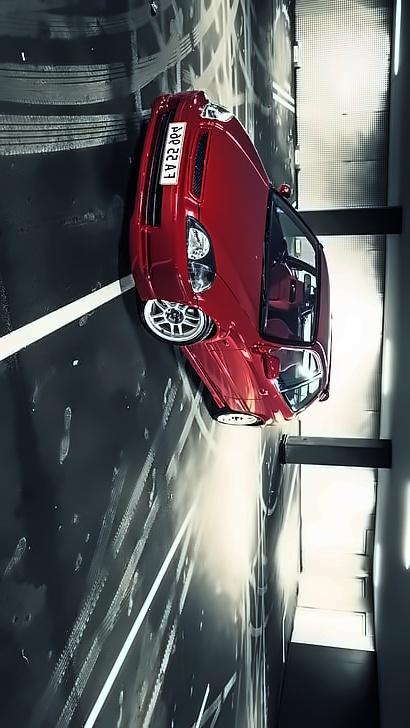Car hood: (196, 112, 272, 336)
Fender - -F-L-: (178, 271, 263, 350)
Fender - -R-L-: (223, 403, 291, 425)
Front bumper: (124, 87, 204, 311)
Headlight - -L-: (181, 213, 219, 299)
Headlight - -R-: (197, 97, 239, 127)
Passenger-s door - -F-L-: (188, 349, 328, 402)
Side bumper - -L-: (175, 344, 229, 412)
Side mirror - -L-: (258, 347, 283, 381)
Side mirror - -R-: (274, 176, 302, 205)
